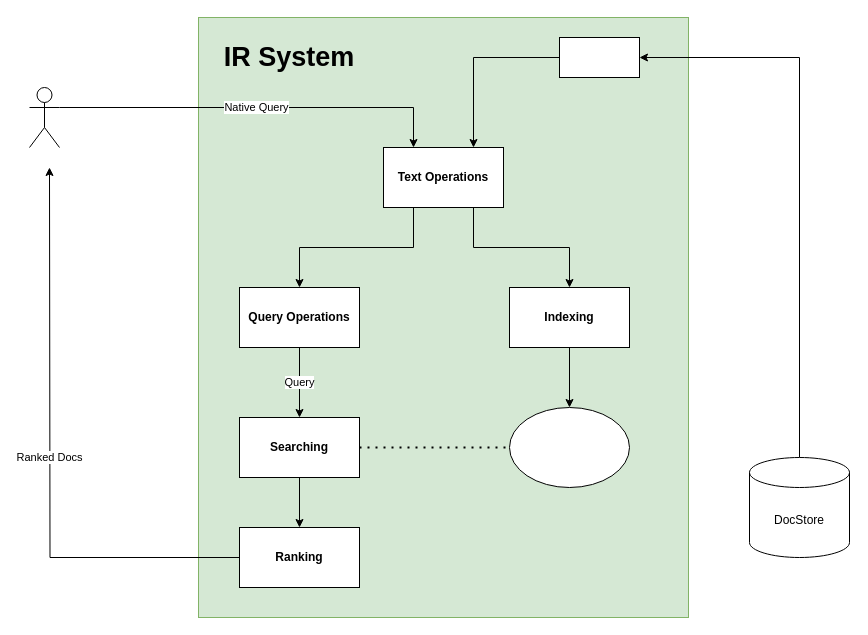
Image size: 868x635. Some labels were removed from this diagram. The centre of each missing label's shape, as x and y in pixels:
DB Manager Module: (x=599, y=57)
Index: (x=569, y=447)
User: (x=44, y=117)
